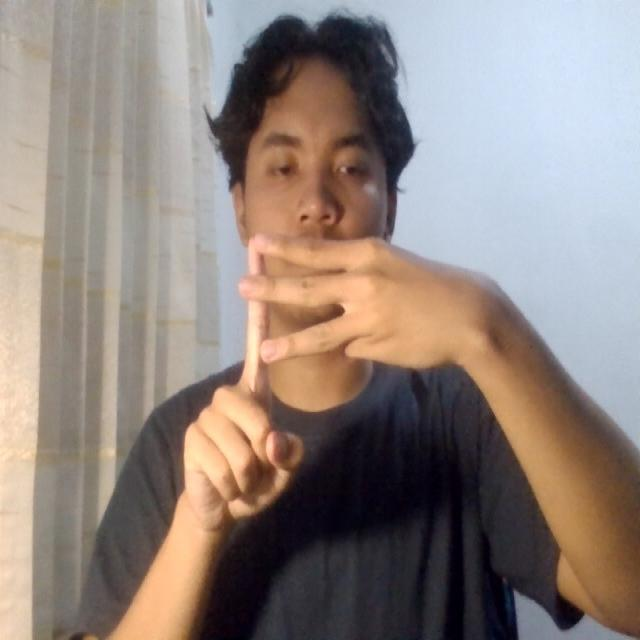B: (171, 211, 475, 558)
